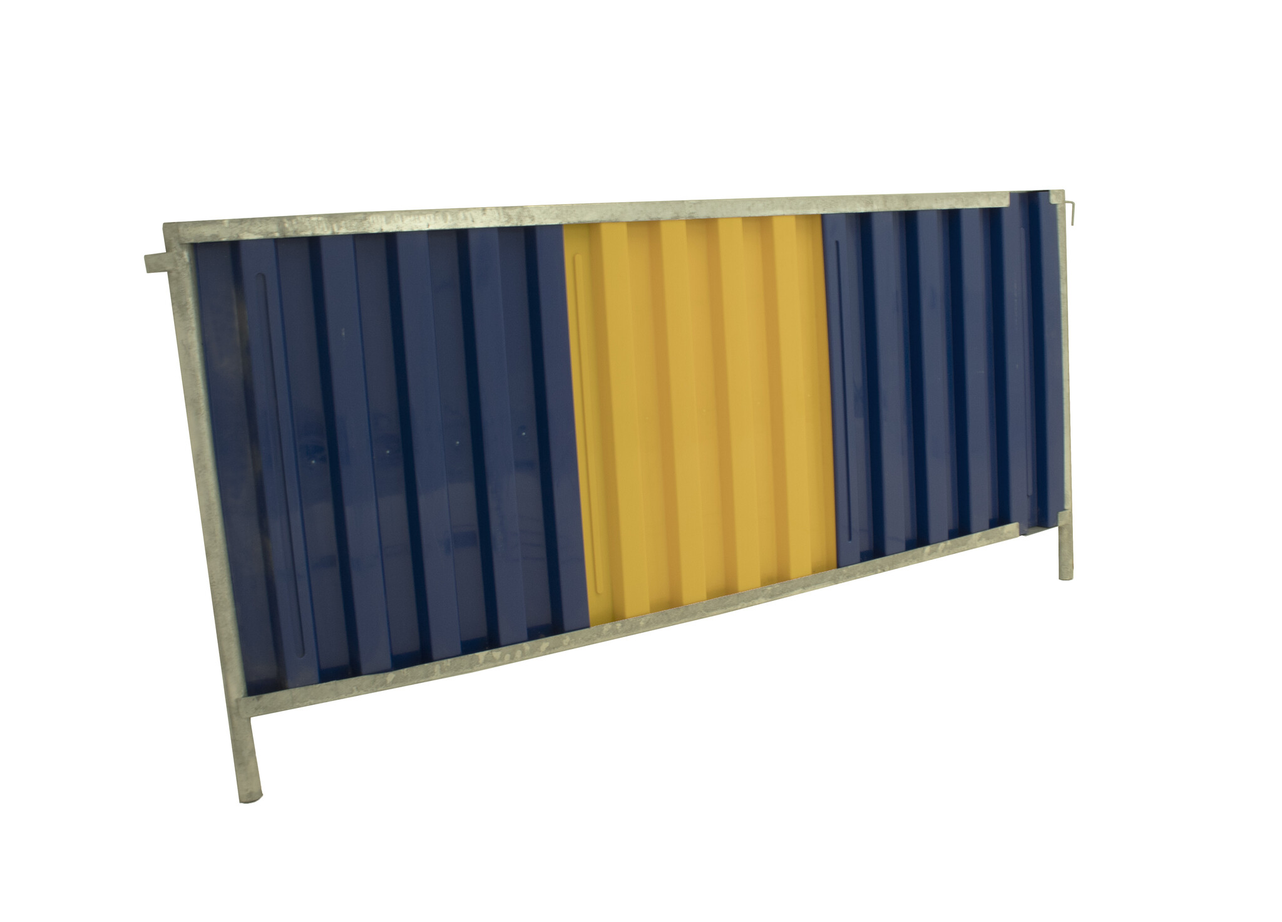Barrier: (111, 181, 1136, 809)
